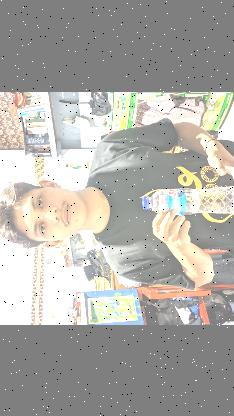Plastic Bottle: (140, 185, 234, 214)
